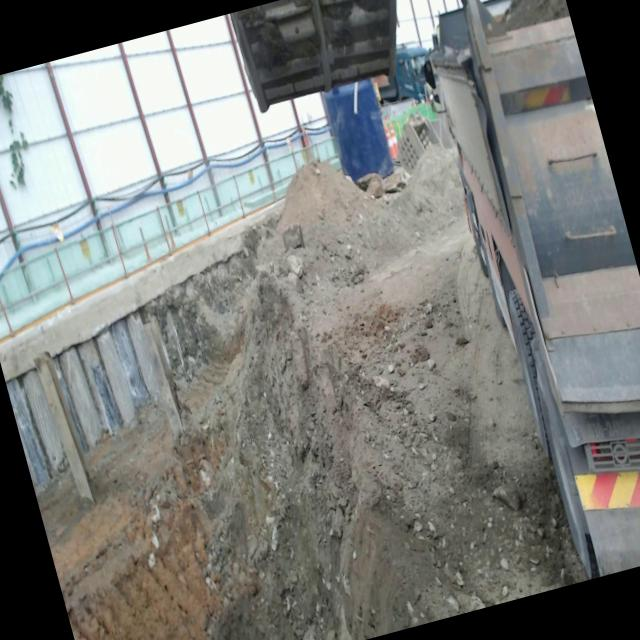white-sand: (36, 148, 588, 640)
